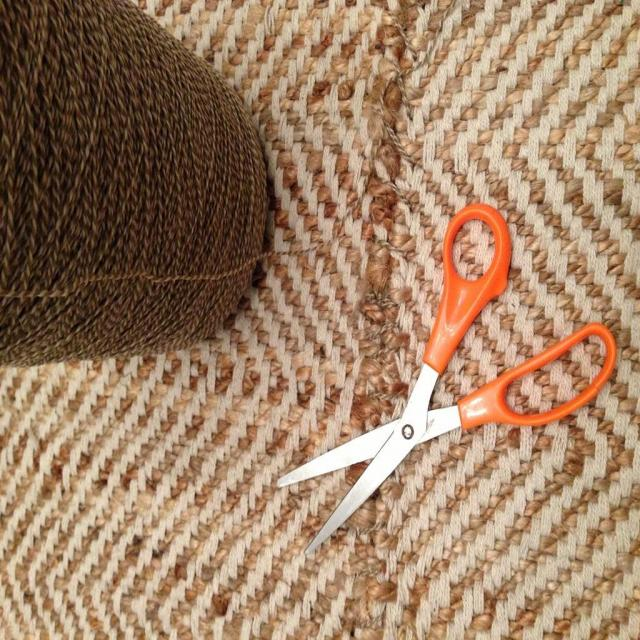scissor: (278, 204, 620, 559)
